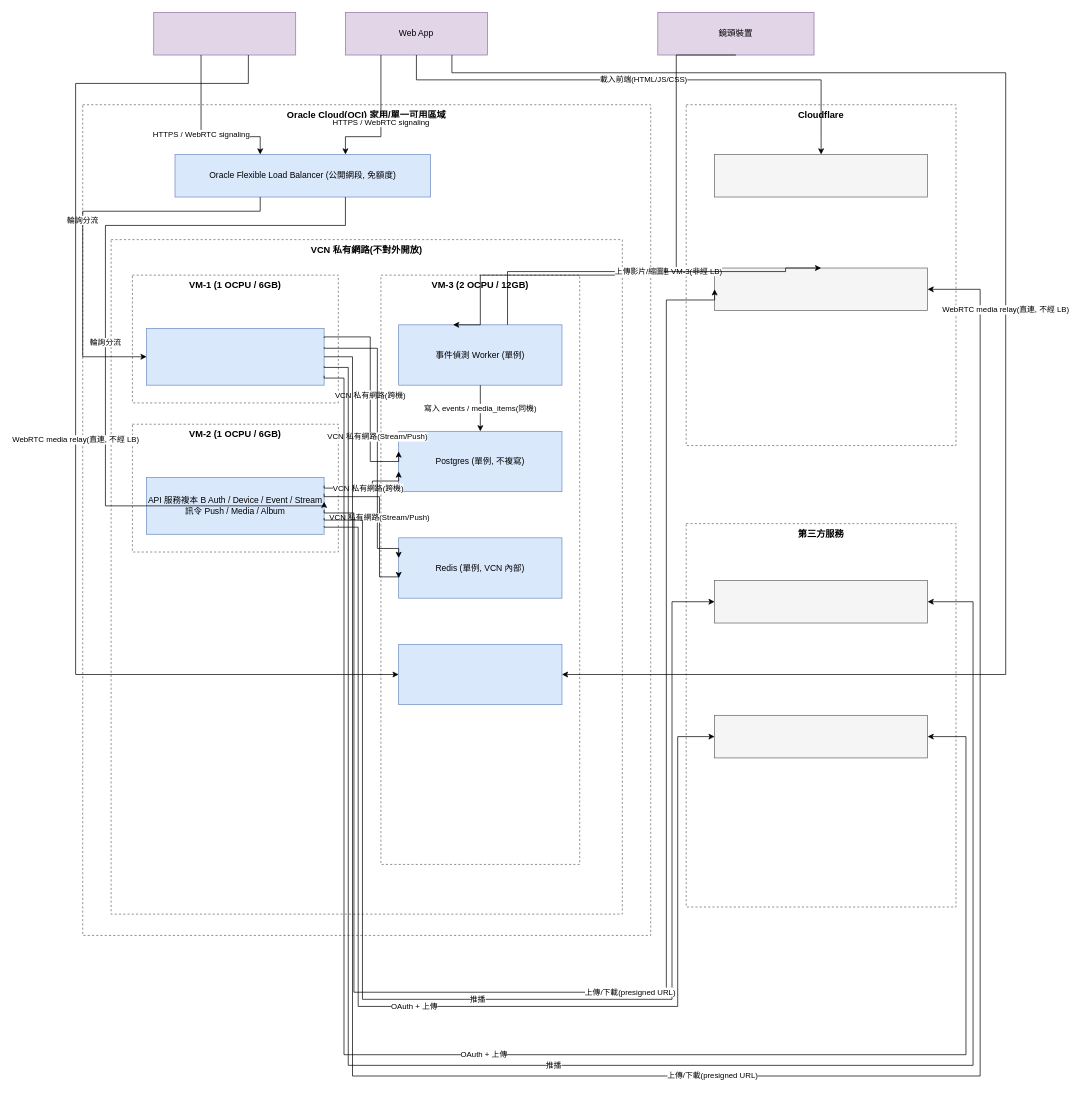
The diagram is 1081 pixels wide and 1094 high, and some of its shapes have lost their labels. The centre of each missing label's shape, as x and y in pixels:
"API 服務複本 A Auth / Device / Event / Stream 訊令 Push / Media / Album" belongs at [235,356].
"FCM / APNs / Web Push" belongs at [821,601].
"Google Drive" belongs at [821,736].
"Pages (Web 前端靜態檔)" belongs at [821,175].
"R2 (影片 / 縮圖)" belongs at [821,289].
"TURN Server (單例)" belongs at [480,674].
"手機 App (iOS / Android)" belongs at [224,33].
